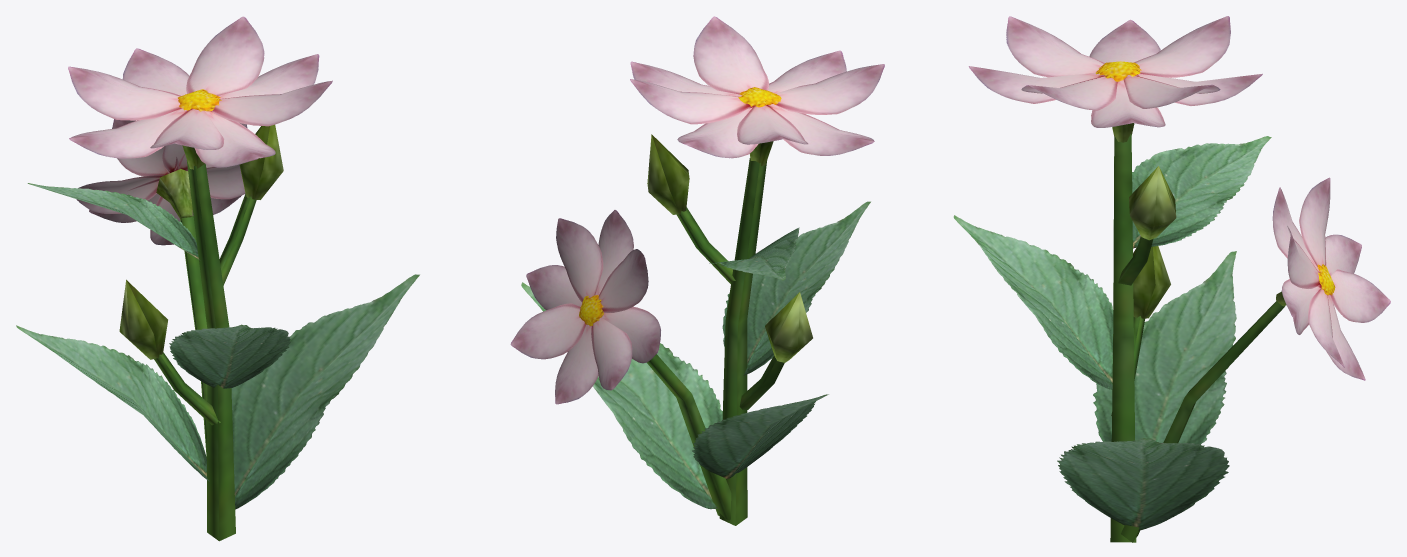
The model's file is whitef3.fbx.
3 views of the same model, side by side, from view 1: azimuth 30°, elevation 25°; view 2: azimuth 150°, elevation 25°; view 3: azimuth 270°, elevation 25° (orthographic). The views are drawn at different scales.
Visible parts, largest first — view 1: whiteflw03; view 2: whiteflw03; view 3: whiteflw03.
Part boxes in pixels (x1,y1,x2,y2): whiteflw03: (16, 16, 419, 541); whiteflw03: (510, 16, 884, 525); whiteflw03: (953, 16, 1390, 542).
Bounding box in the file's own units: 25.14 × 29.17 × 24.85.
